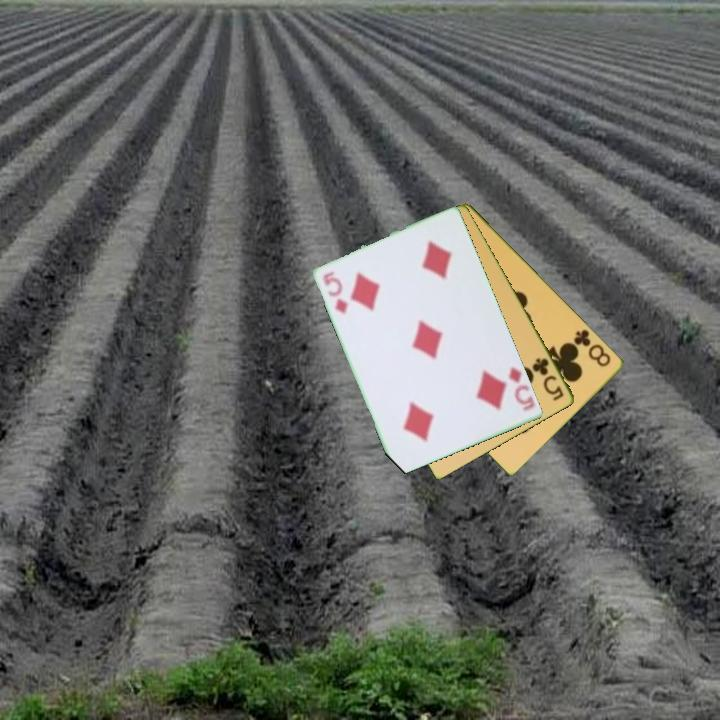5c: (529, 355, 567, 404)
5d: (506, 363, 538, 414), (320, 268, 351, 318)
8c: (570, 326, 614, 370)
